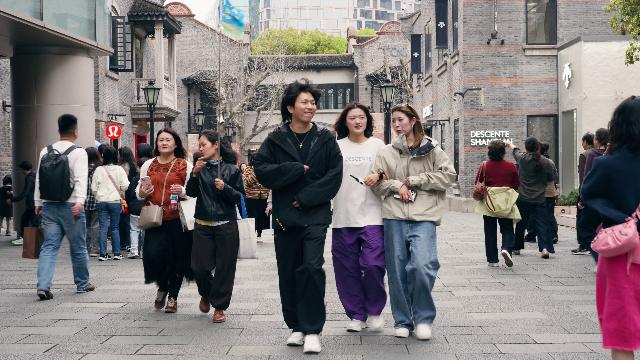person: (252, 77, 344, 354), (368, 102, 458, 339), (578, 95, 640, 351), (329, 102, 387, 333), (185, 130, 245, 323), (34, 114, 95, 300), (142, 129, 182, 326), (505, 137, 558, 259), (474, 140, 522, 267), (570, 128, 612, 256), (92, 130, 131, 257), (7, 161, 37, 246), (576, 131, 596, 250), (243, 153, 269, 244), (538, 142, 561, 244), (117, 146, 136, 252), (1, 175, 15, 236)
